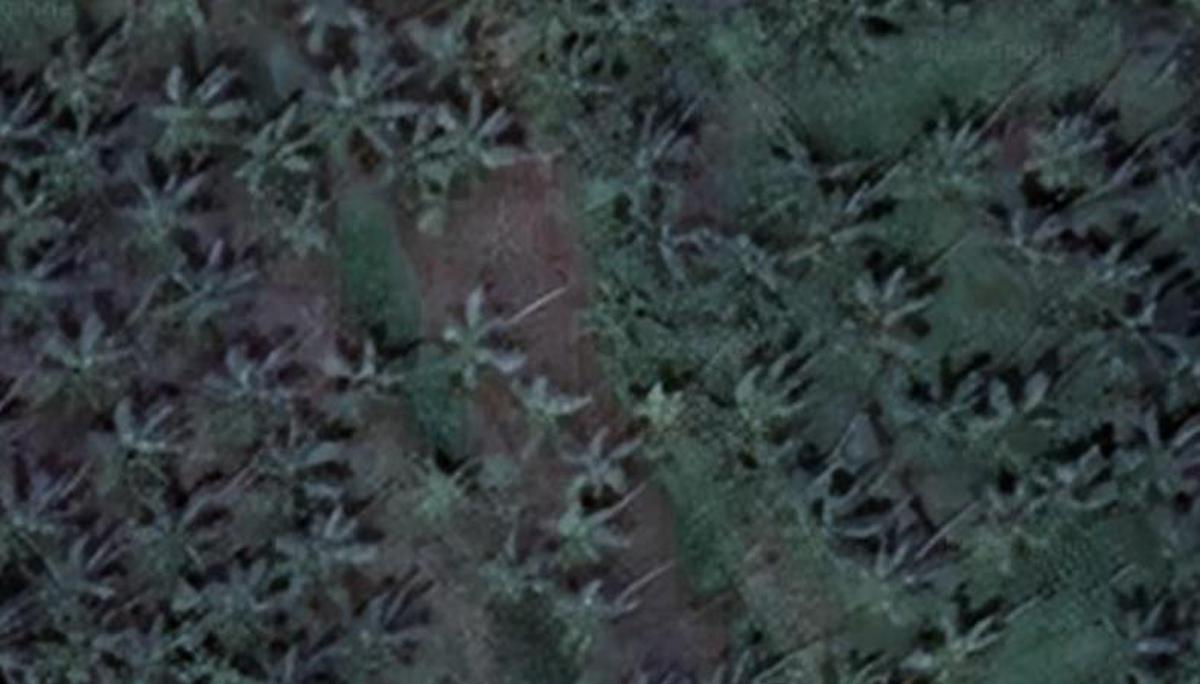coconut: (769, 102, 884, 216), (319, 578, 440, 684), (138, 222, 252, 332), (18, 298, 134, 405), (549, 405, 660, 514), (829, 245, 931, 351), (306, 333, 418, 429), (485, 361, 586, 466), (298, 47, 408, 143), (0, 461, 92, 574), (1023, 435, 1123, 536), (1096, 269, 1195, 371), (22, 31, 123, 129), (359, 114, 456, 216), (430, 287, 525, 391), (564, 262, 667, 356), (718, 356, 829, 443), (1081, 594, 1187, 684), (268, 492, 365, 589), (141, 60, 236, 159), (115, 150, 205, 254), (210, 329, 303, 429), (1018, 100, 1114, 196), (600, 190, 697, 284), (607, 97, 714, 182), (539, 487, 639, 577), (94, 399, 182, 501), (936, 581, 1035, 671), (985, 187, 1076, 284), (1056, 208, 1146, 306), (1110, 403, 1196, 505), (892, 106, 995, 191), (501, 31, 595, 124), (243, 405, 333, 502), (196, 551, 287, 644), (462, 524, 563, 607), (432, 83, 523, 173), (697, 217, 791, 303), (0, 234, 89, 324), (236, 92, 324, 182), (887, 354, 979, 440), (959, 463, 1043, 554), (868, 519, 960, 598), (554, 583, 644, 662), (974, 365, 1065, 443), (18, 540, 111, 616), (767, 466, 839, 559), (0, 79, 65, 182), (141, 487, 217, 569), (409, 457, 493, 530), (115, 612, 194, 684)
